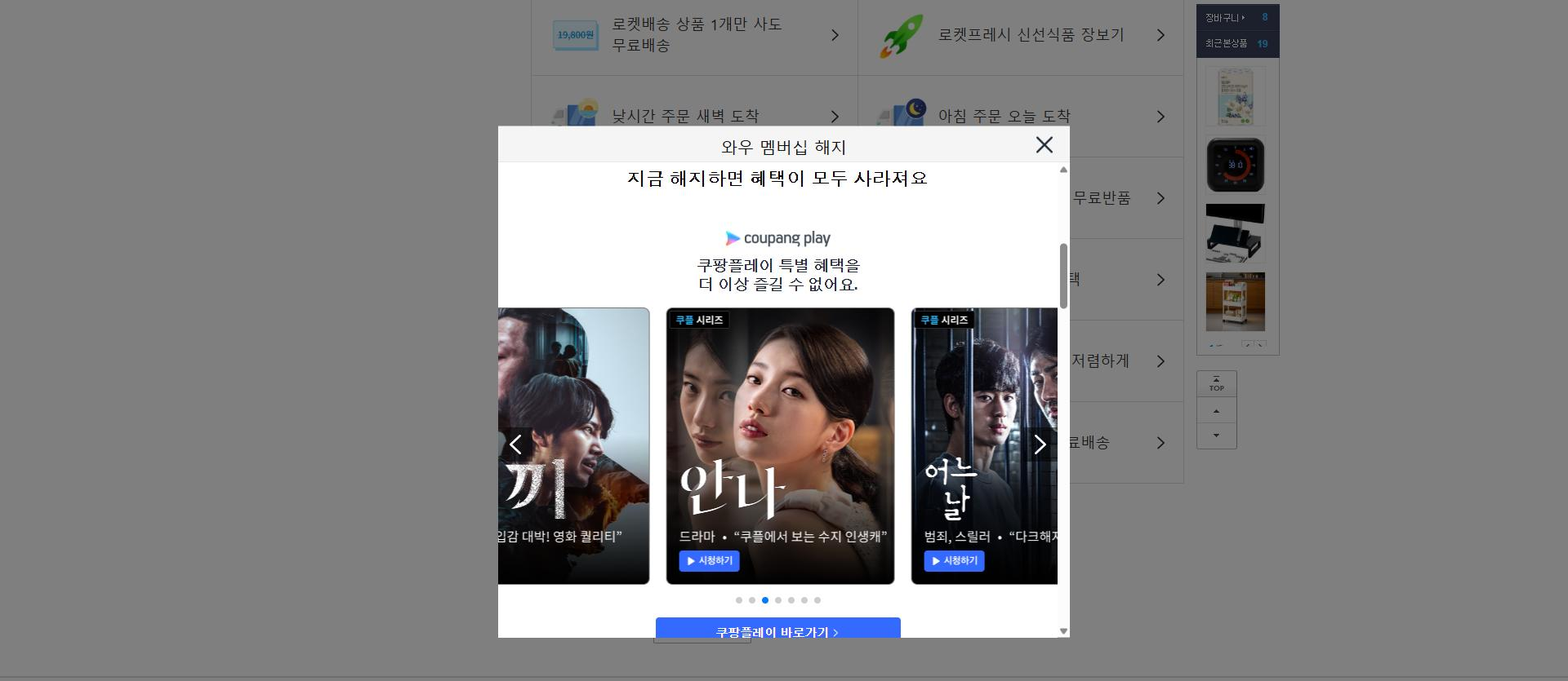button: (1201, 4, 1278, 356), (858, 4, 1187, 79), (530, 2, 857, 76), (653, 613, 899, 638), (1201, 367, 1236, 452), (1150, 253, 1178, 313), (1146, 178, 1177, 230), (1145, 340, 1177, 388), (1145, 95, 1176, 144), (811, 89, 848, 126), (1150, 421, 1174, 477), (1029, 131, 1058, 160)
popup: (498, 126, 1070, 639)
